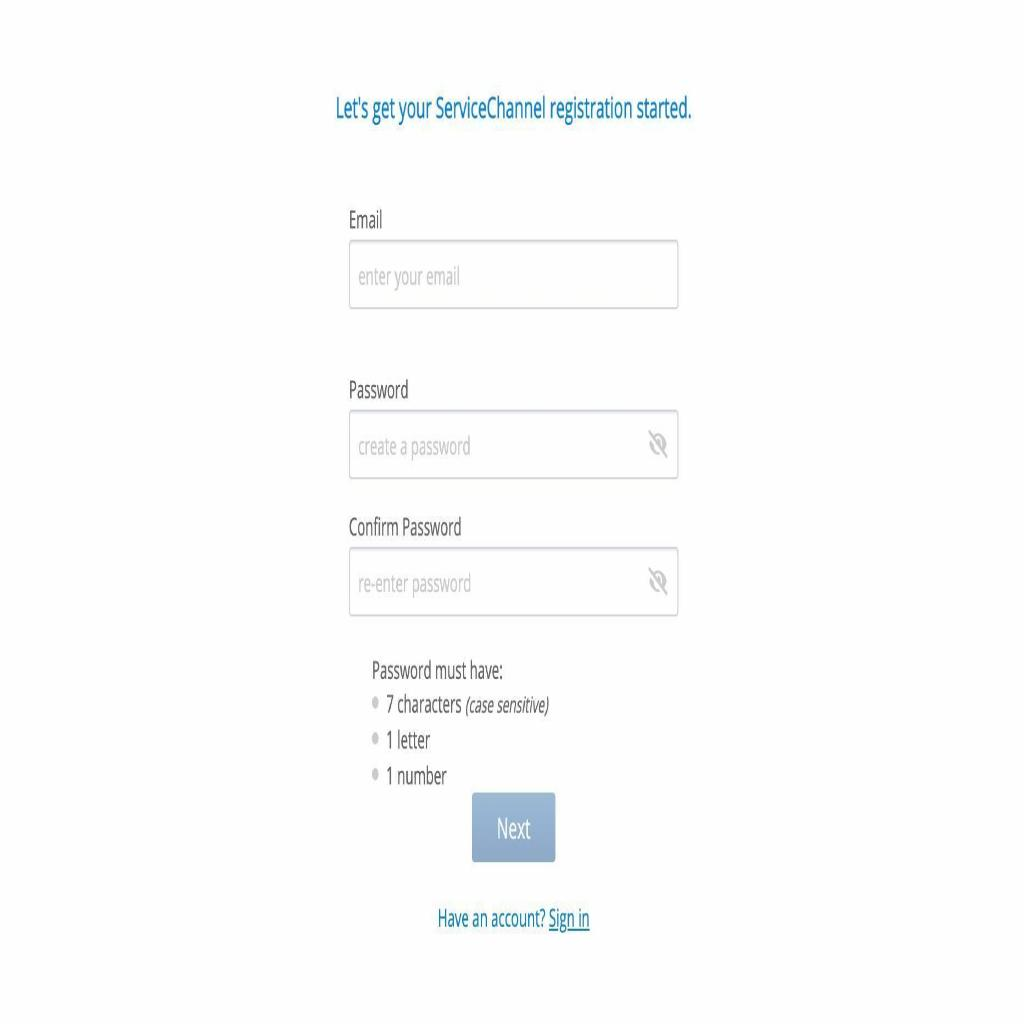button: (472, 788, 556, 866)
icon: (643, 554, 671, 604), (643, 417, 671, 465)
input: (348, 544, 680, 620), (349, 411, 678, 480), (348, 244, 680, 311)
label: (348, 514, 463, 541), (347, 370, 411, 406), (348, 200, 384, 232)
